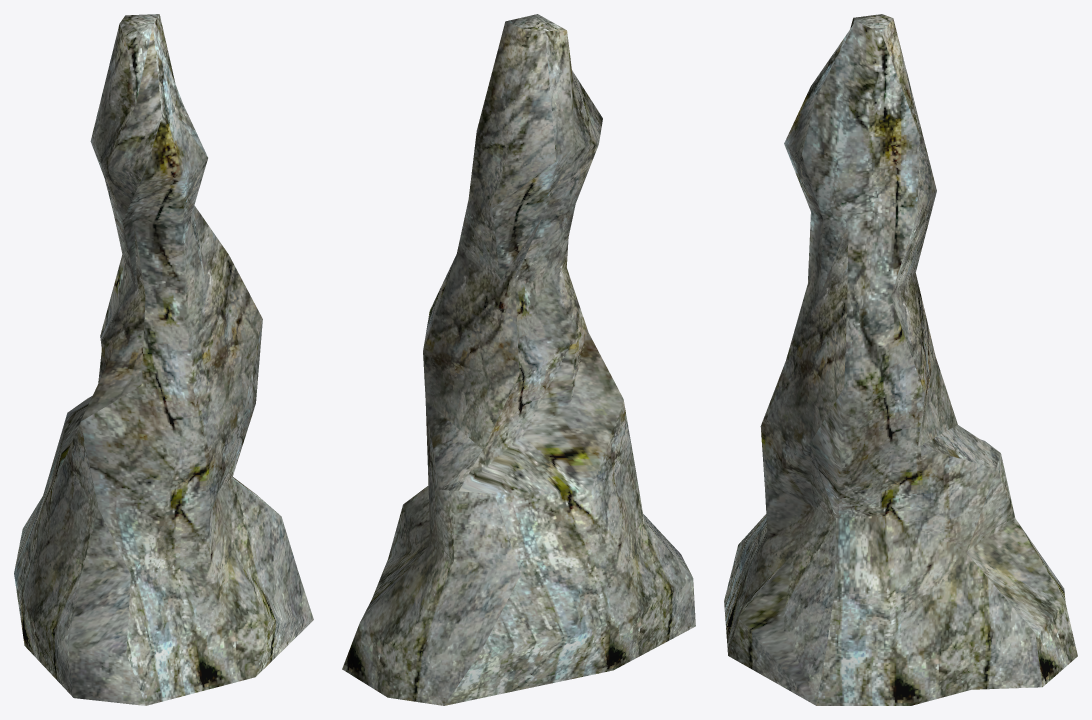
The model's file is general_obj_bigstone02.fbx.
3 views of the same model, side by side, from view 1: azimuth 30°, elevation 25°; view 2: azimuth 150°, elevation 25°; view 3: azimuth 270°, elevation 25° (orthographic).
Parts seen in each view (by area): view 1: Sphere01; view 2: Sphere01; view 3: Sphere01.
Part boxes in pixels (bbox=[...]): Sphere01: bbox=[14, 14, 313, 705]; Sphere01: bbox=[342, 14, 695, 705]; Sphere01: bbox=[724, 14, 1077, 705].
Size of the model in its own units: 19.08 by 42.85 by 22.32.
